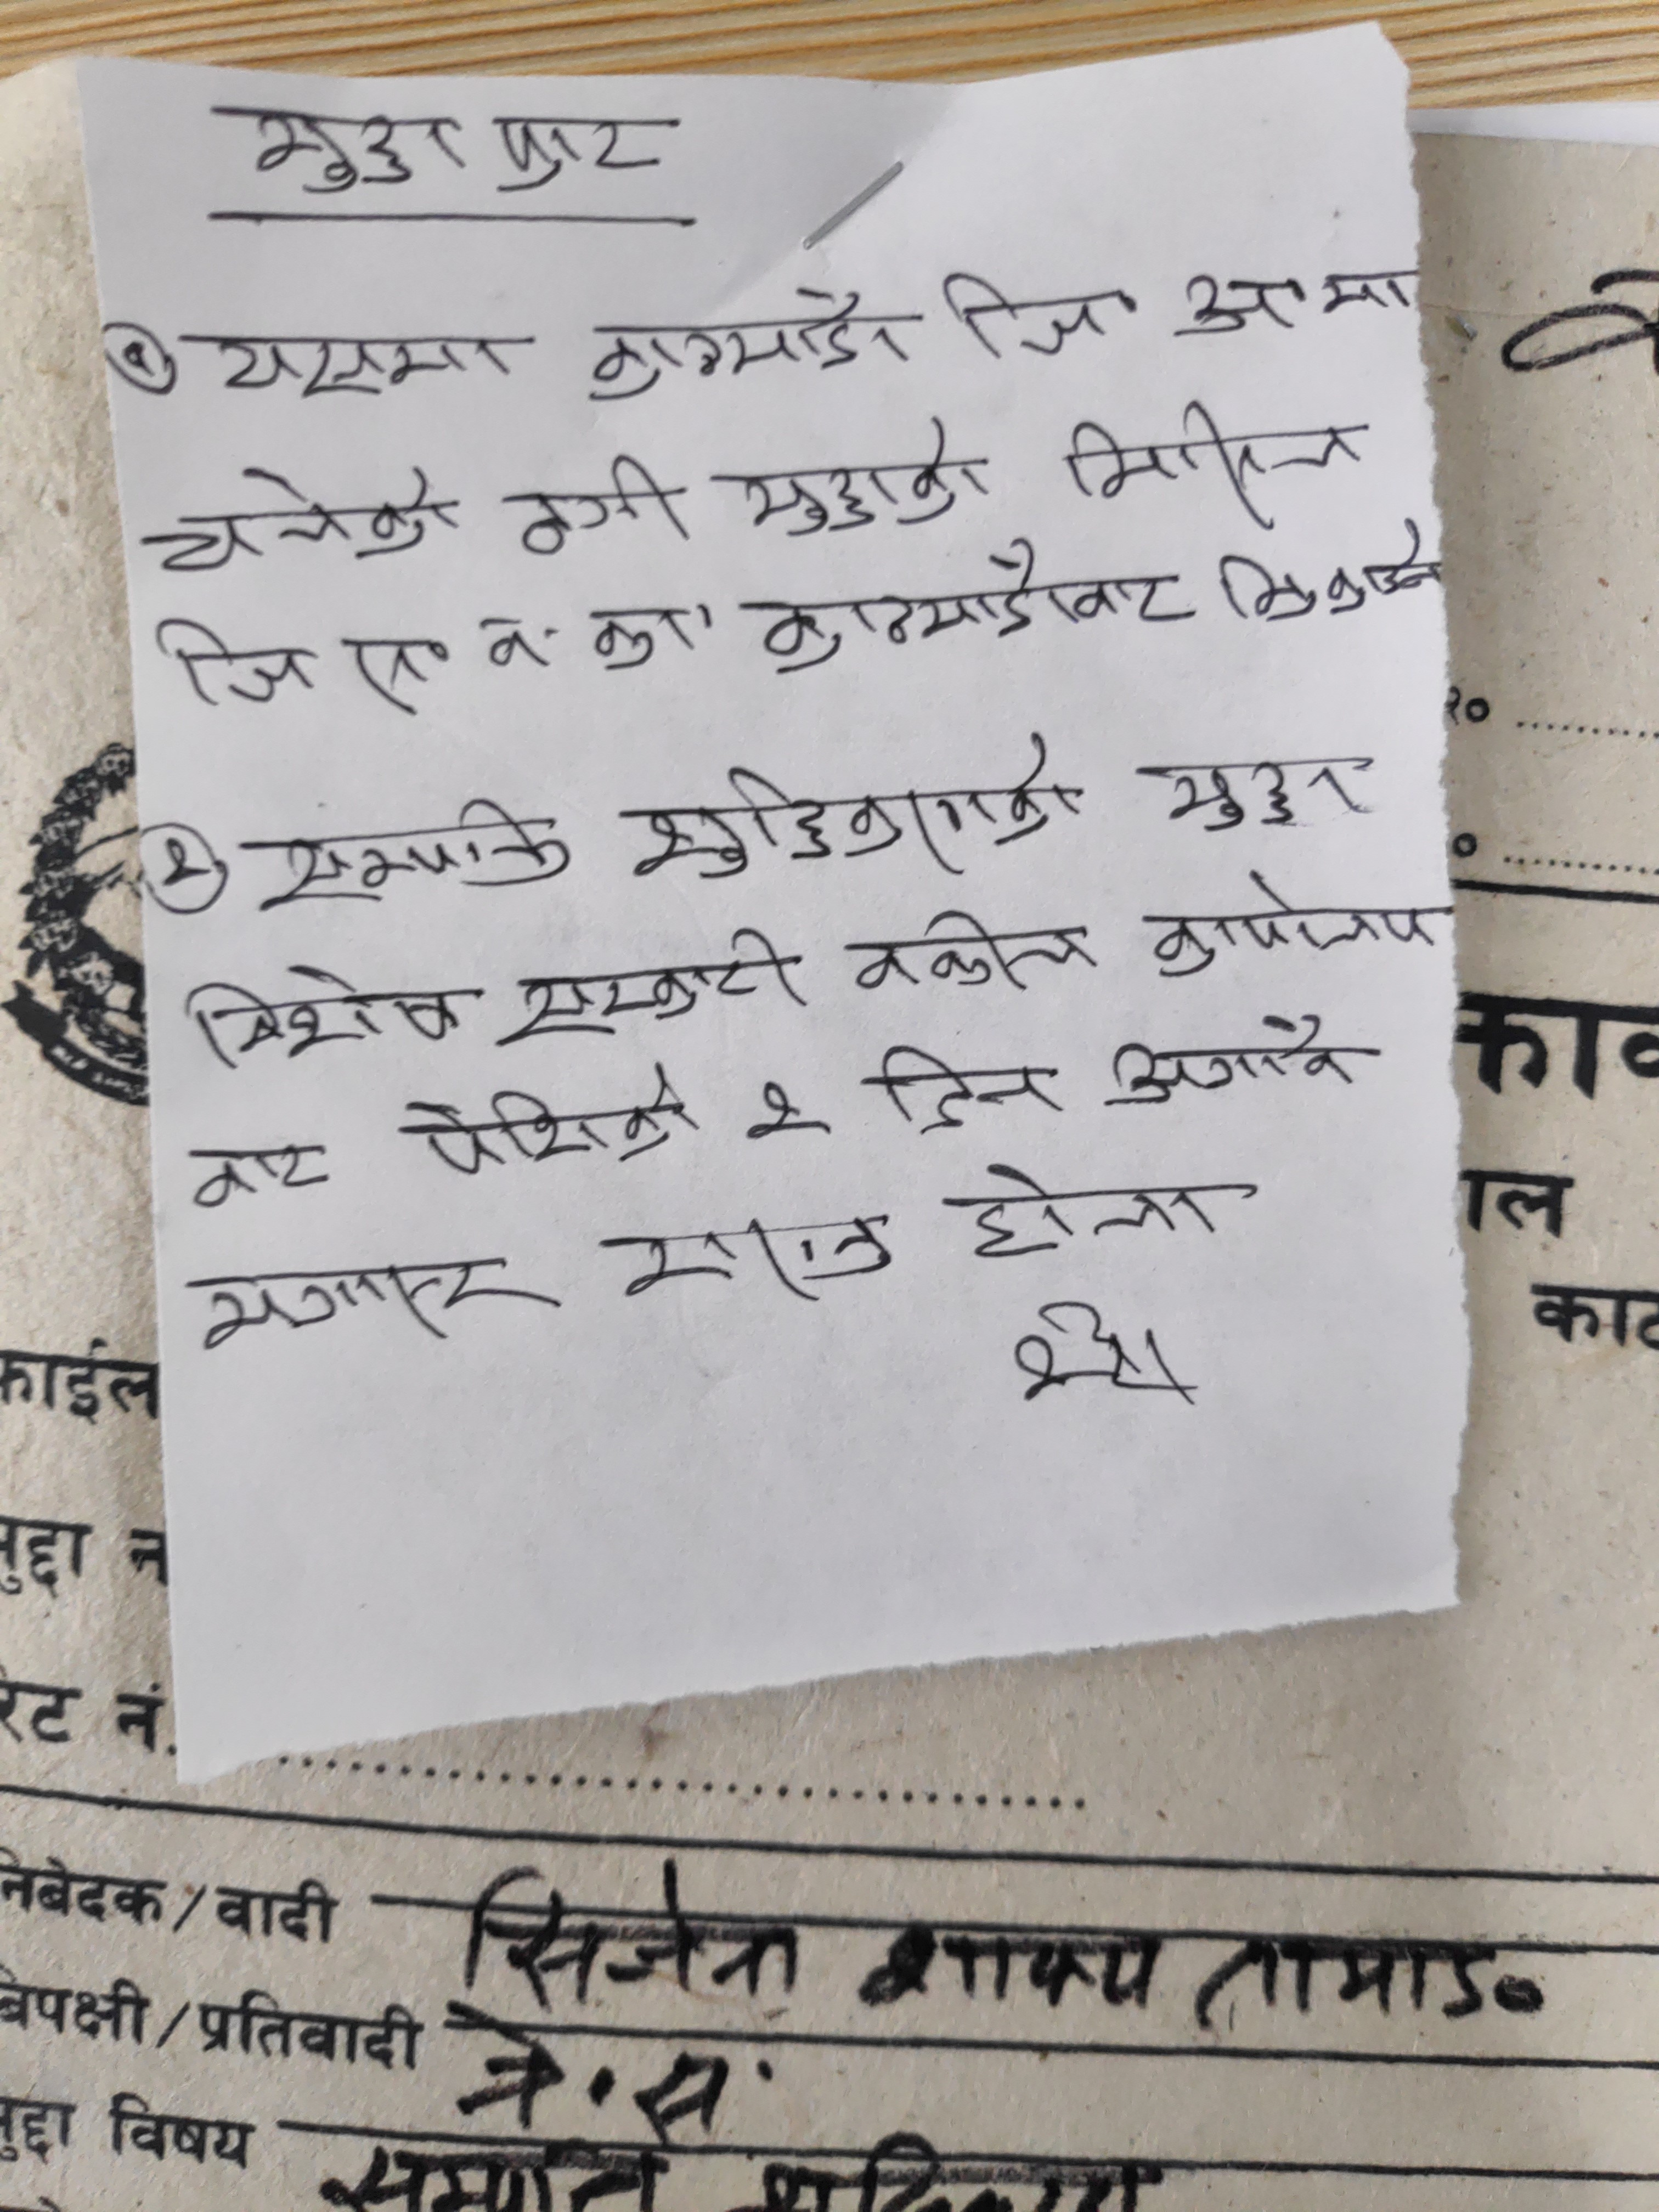text: (612, 732, 1096, 890), (741, 542, 1206, 672), (434, 1851, 802, 2003), (1176, 1916, 1554, 2055), (843, 1909, 1168, 2041), (1047, 395, 1363, 531), (185, 1254, 570, 1364), (251, 789, 577, 913), (472, 918, 817, 1035), (1138, 853, 1446, 982), (134, 463, 472, 580), (389, 1052, 706, 1174), (146, 596, 460, 716), (582, 286, 915, 399), (725, 402, 990, 538), (948, 1151, 1244, 1268), (179, 954, 472, 1068), (596, 1200, 904, 1306), (202, 89, 469, 195), (1096, 1008, 1370, 1111), (843, 902, 1100, 1008), (1215, 523, 1434, 632), (934, 254, 1141, 369), (202, 331, 525, 399), (861, 1035, 1066, 1141), (1131, 747, 1377, 834), (495, 448, 683, 561), (476, 599, 695, 693), (1176, 266, 1412, 350), (491, 105, 673, 193), (183, 1125, 347, 1216), (737, 1071, 835, 1160)
